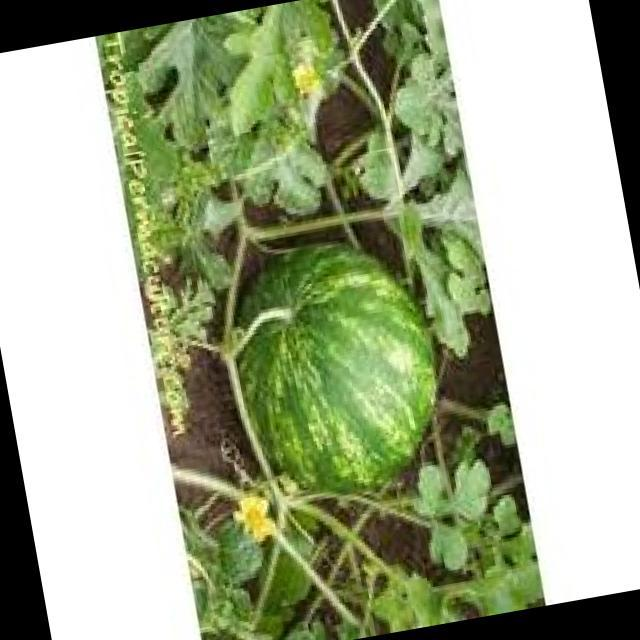watermelon: (234, 244, 436, 493)
